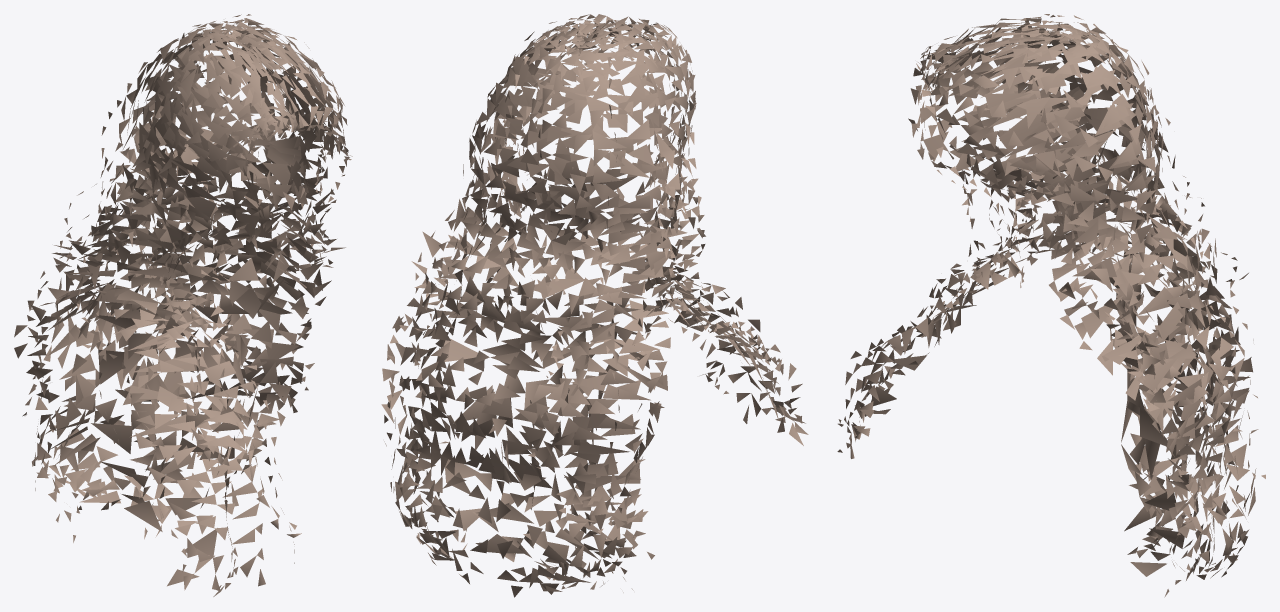
Rendered from female_hair_06_lod1.glb.
3 views of the same model, side by side, from view 1: azimuth 30°, elevation 25°; view 2: azimuth 150°, elevation 25°; view 3: azimuth 270°, elevation 25° (orthographic). The views are drawn at different scales.
Parts seen in each view (by area): view 1: female-hair-06; view 2: female-hair-06; view 3: female-hair-06.
Part boxes in pixels (box(x1,y1,x2,y2)): female-hair-06: box(14, 14, 352, 596); female-hair-06: box(381, 14, 808, 597); female-hair-06: box(837, 14, 1265, 597).
Bounding box in the file's own units: 0.3207 × 0.5221 × 0.3783.
